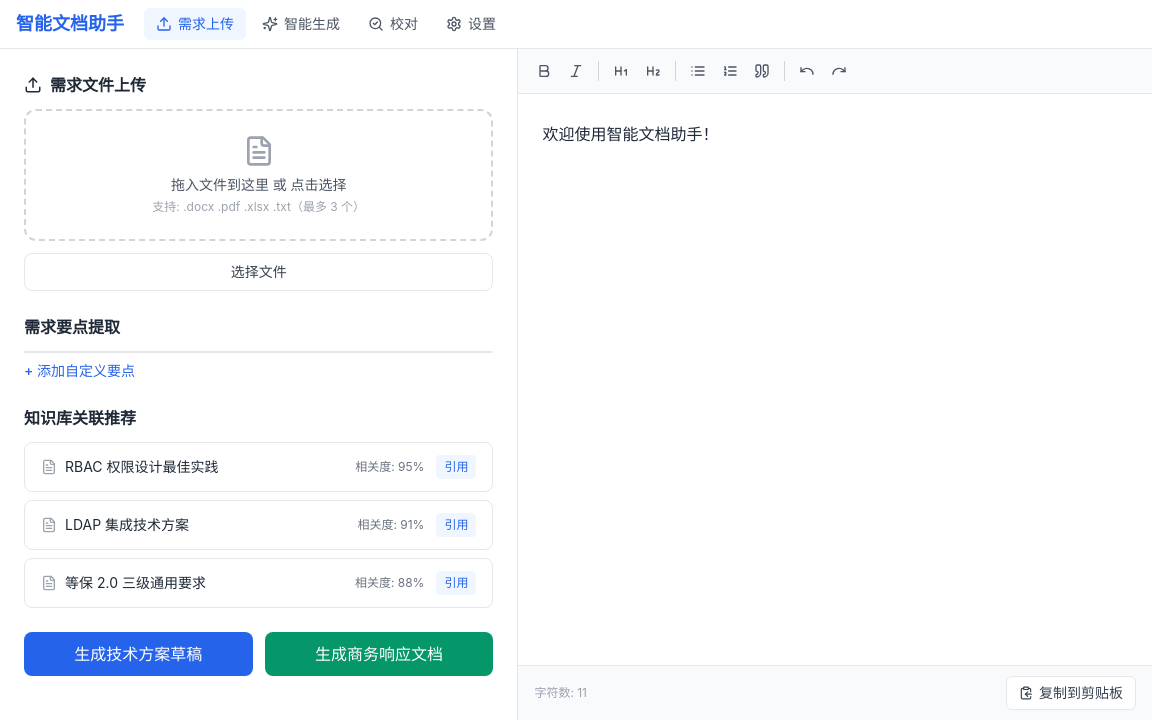
it: App › switches to generate tab when clicked
Click the button "智能生成" at (301, 24), box [250,8,352,40]
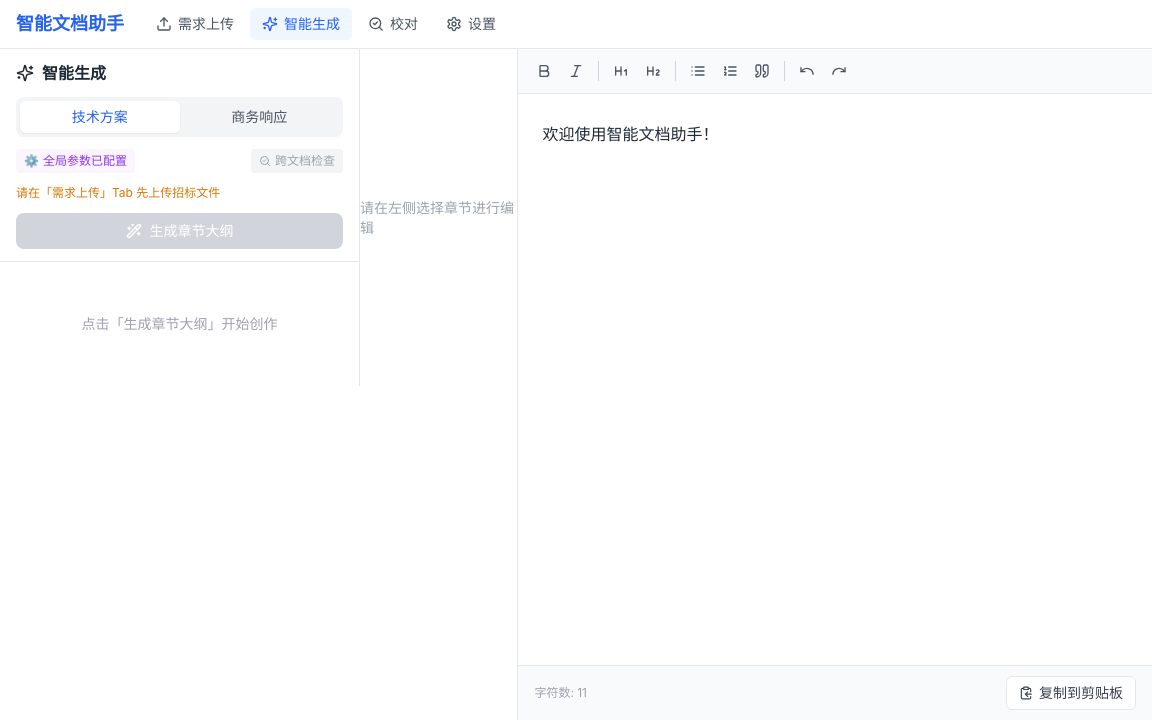
Result: the button "生成章节大纲" is shown at [16,213,343,249]
